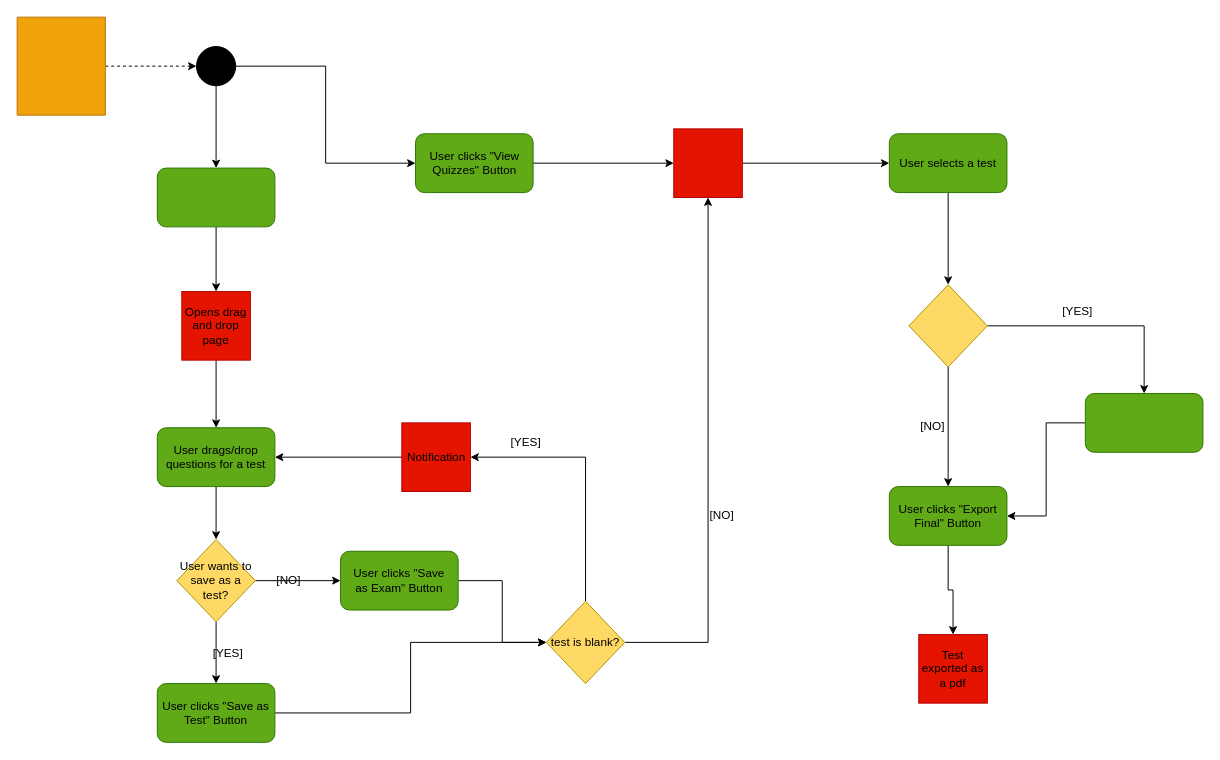
This 1220x760 diagram has some shape labels left out. Each missing label, with the centre of its shape:
Does the user wants to export as memo?: point (947, 325)
Opens Draft and Final page: point (707, 162)
User clicks "Create Test" Button: point (215, 197)
User has selected a course and wants to create a quizz: point (60, 65)
User ticks memo box: point (1143, 422)
